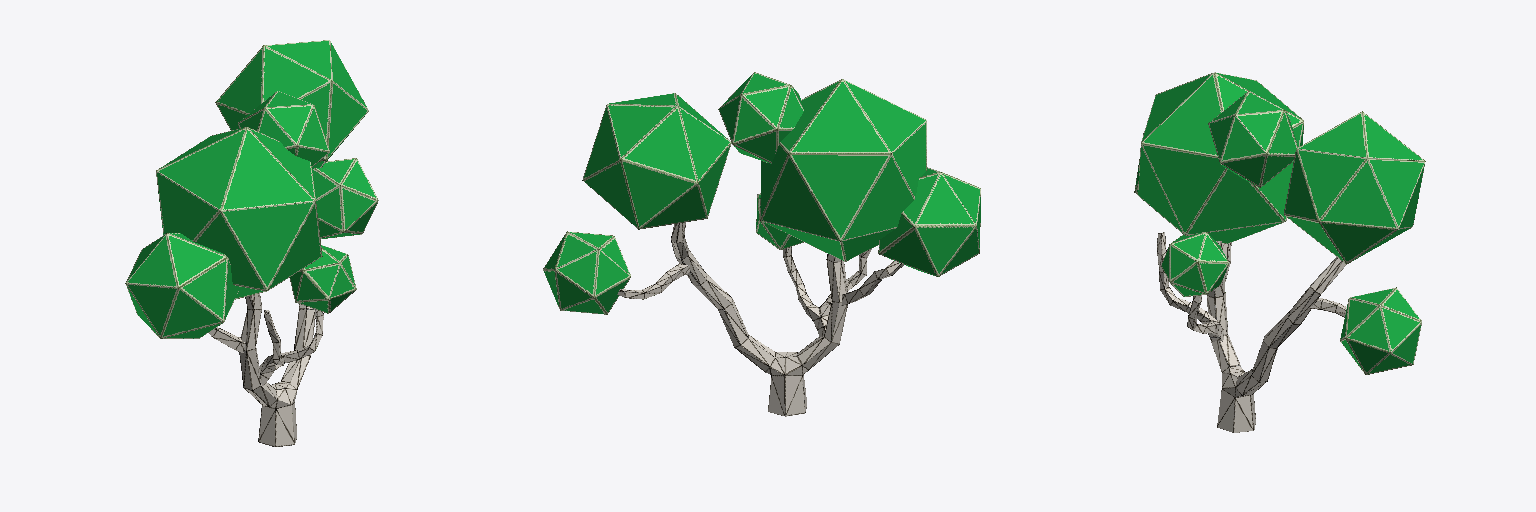
3 views of the same model, side by side, from view 1: azimuth 30°, elevation 25°; view 2: azimuth 150°, elevation 25°; view 3: azimuth 270°, elevation 25° (orthographic).
Parts seen in each view (by area): view 1: Default; view 2: Default; view 3: Default.
Boxes of the visible parts, x1=… form: Default: x1=125, y1=40, x2=378, y2=446; Default: x1=543, y1=72, x2=980, y2=416; Default: x1=1134, y1=72, x2=1425, y2=432.
Bounding box in the file's own units: 27.98 × 26.54 × 20.8.
2 materials, 1 textured.